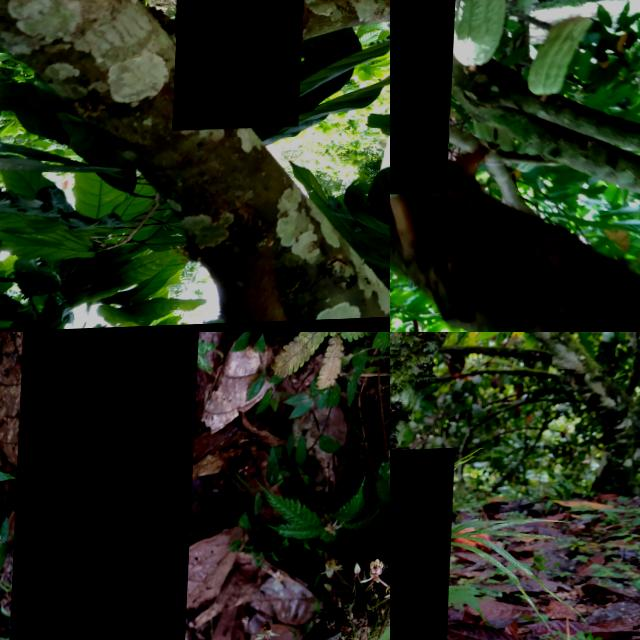Fitoftora: (6, 332, 199, 640), (176, 0, 311, 132), (390, 0, 458, 198)
Monilia: (390, 450, 456, 640)
Sana: (532, 19, 591, 104), (449, 0, 514, 72)
